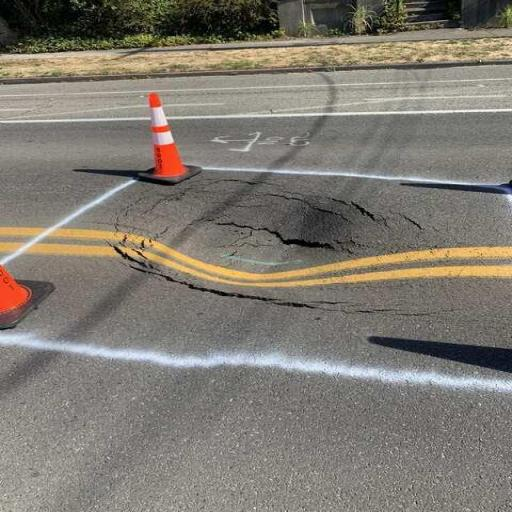Concentric_Crack: (108, 189, 509, 316)
